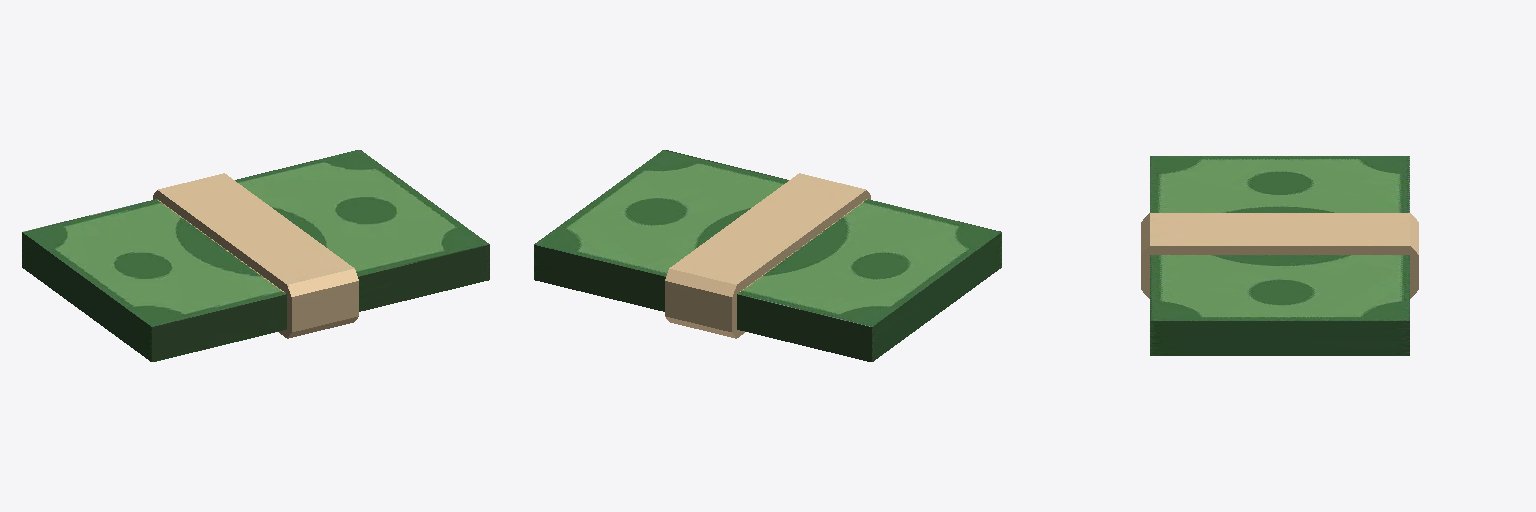
3 views of the same model, side by side, from view 1: azimuth 30°, elevation 25°; view 2: azimuth 150°, elevation 25°; view 3: azimuth 270°, elevation 25° (orthographic).
Parts seen in each view (by area): view 1: Cube_Cube.001; view 2: Cube_Cube.001; view 3: Cube_Cube.001.
Boxes of the visible parts, <box> form: Cube_Cube.001: <box>22,150,489,361</box>; Cube_Cube.001: <box>534,150,1001,361</box>; Cube_Cube.001: <box>1141,156,1418,355</box>.
Size of the model in its own units: 6 by 0.9125 by 4.26.
Materials: 1 (1 with a texture image).